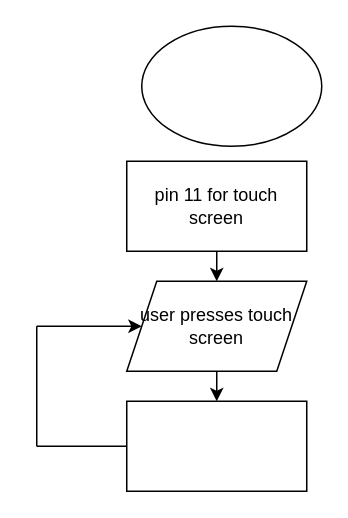
The diagram is 348 pixels wide and 518 high, and some of its shapes have lost their labels. The centre of each missing label's shape, as x and y in pixels:
"set motor speed to touch screen X value" goes at point (216, 445).
"Start" goes at point (231, 85).
